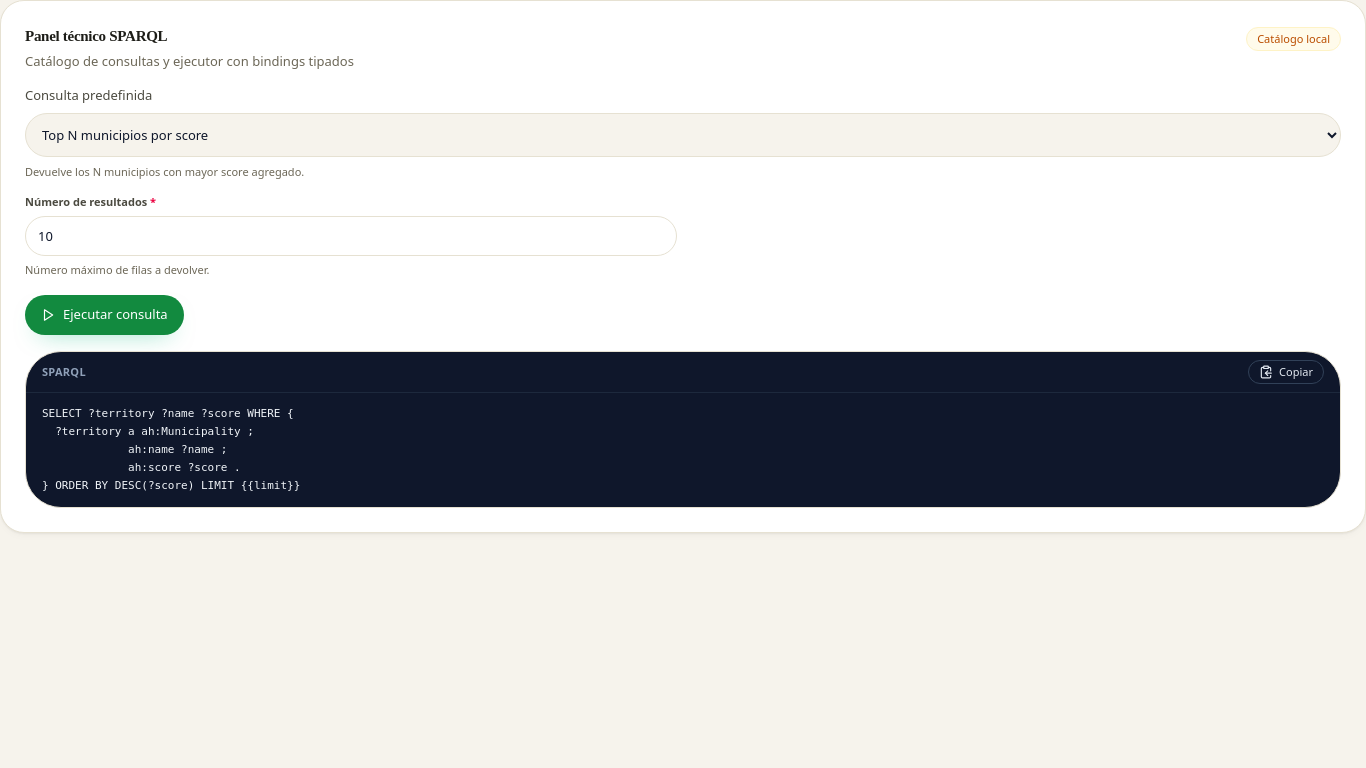
SparqlPlayground › ejecuta la consulta por defecto y pinta una tabla de resultados
What coordinates should you click on to do the following:
click the button with test id "sparql-run"
I would click on:
 (104, 314)
Its box is [25, 294, 184, 334].
(page scrolled)
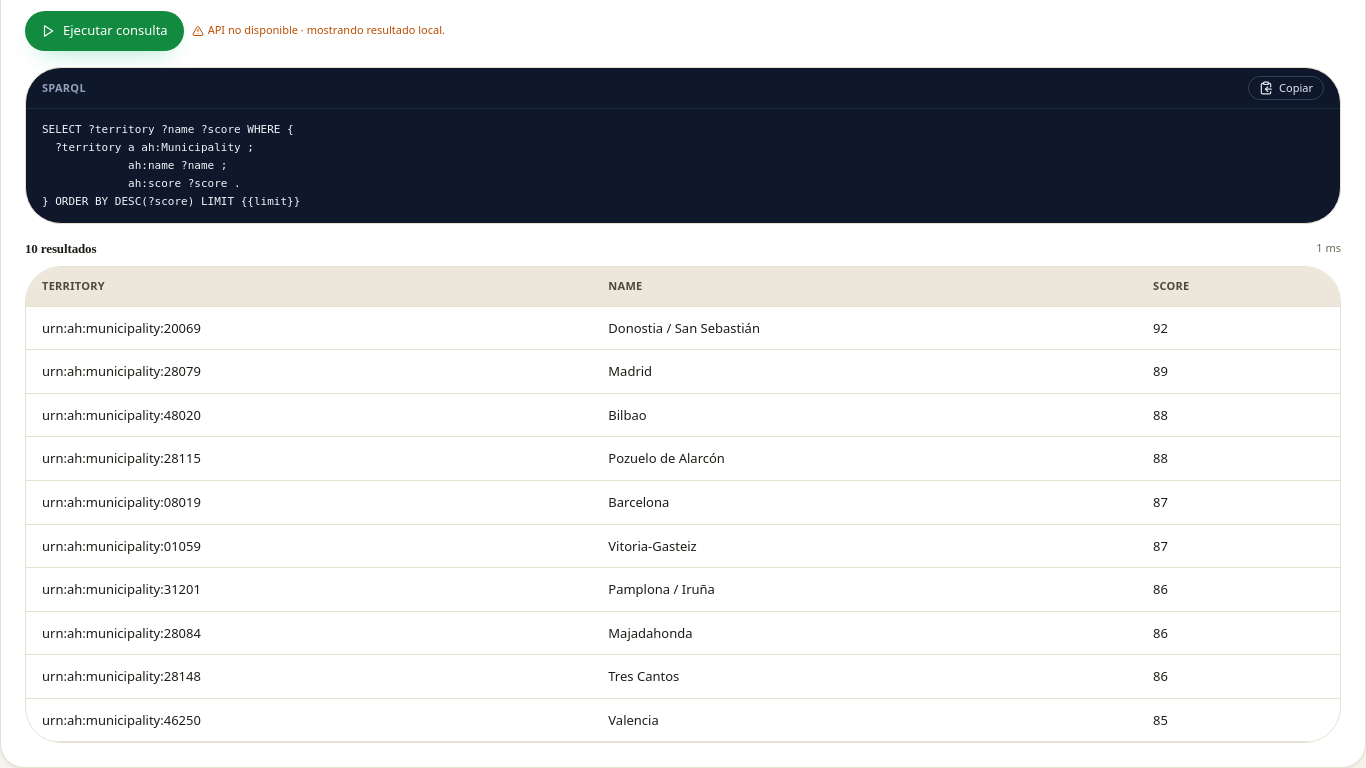
Result: the table is shown at [26, 267, 1340, 742]
